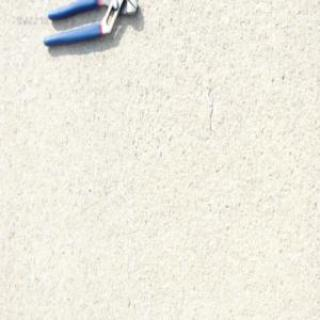Pliertrack_idkeyframe: (42, 0, 138, 50)
